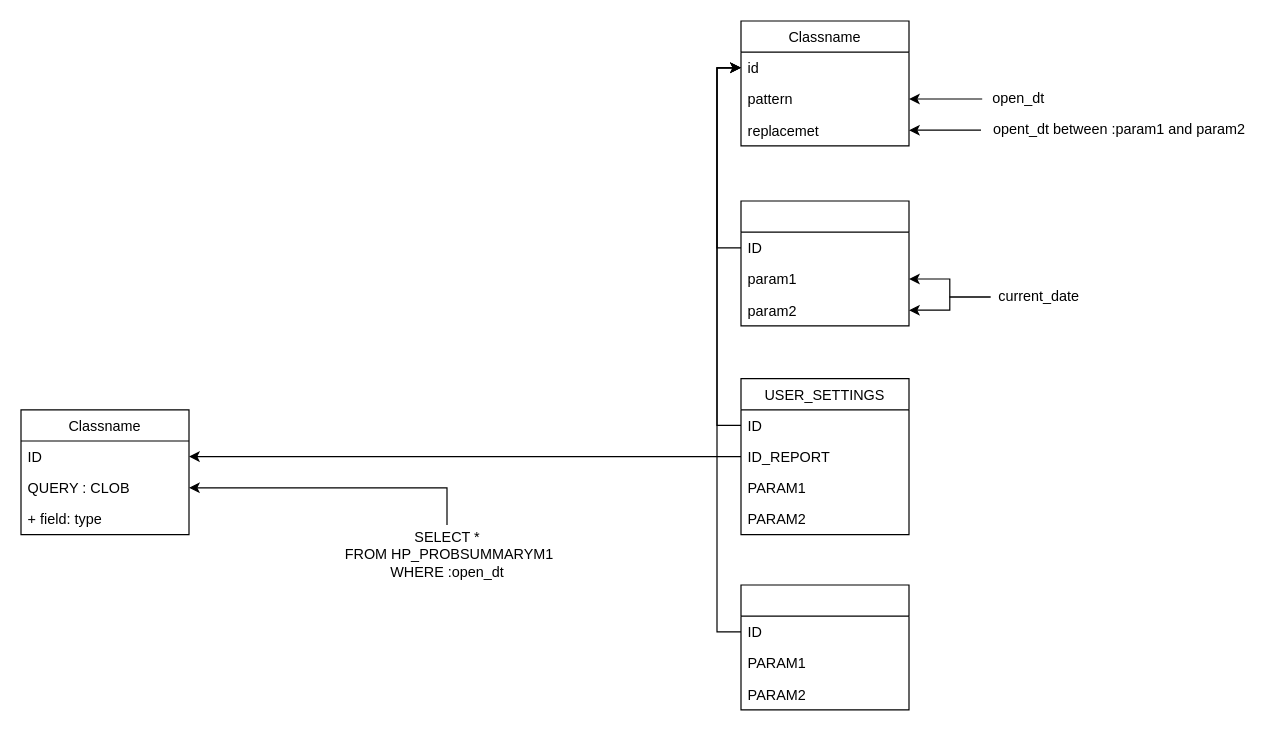
The diagram is 1278 pixels wide and 734 high, and some of its shapes have lost their labels. The box of each missing label's shape, as (x1, y1, x2, y2) in pixels:
DEFAULT: (740, 200, 909, 326)
FROM FRONT: (740, 584, 909, 710)
